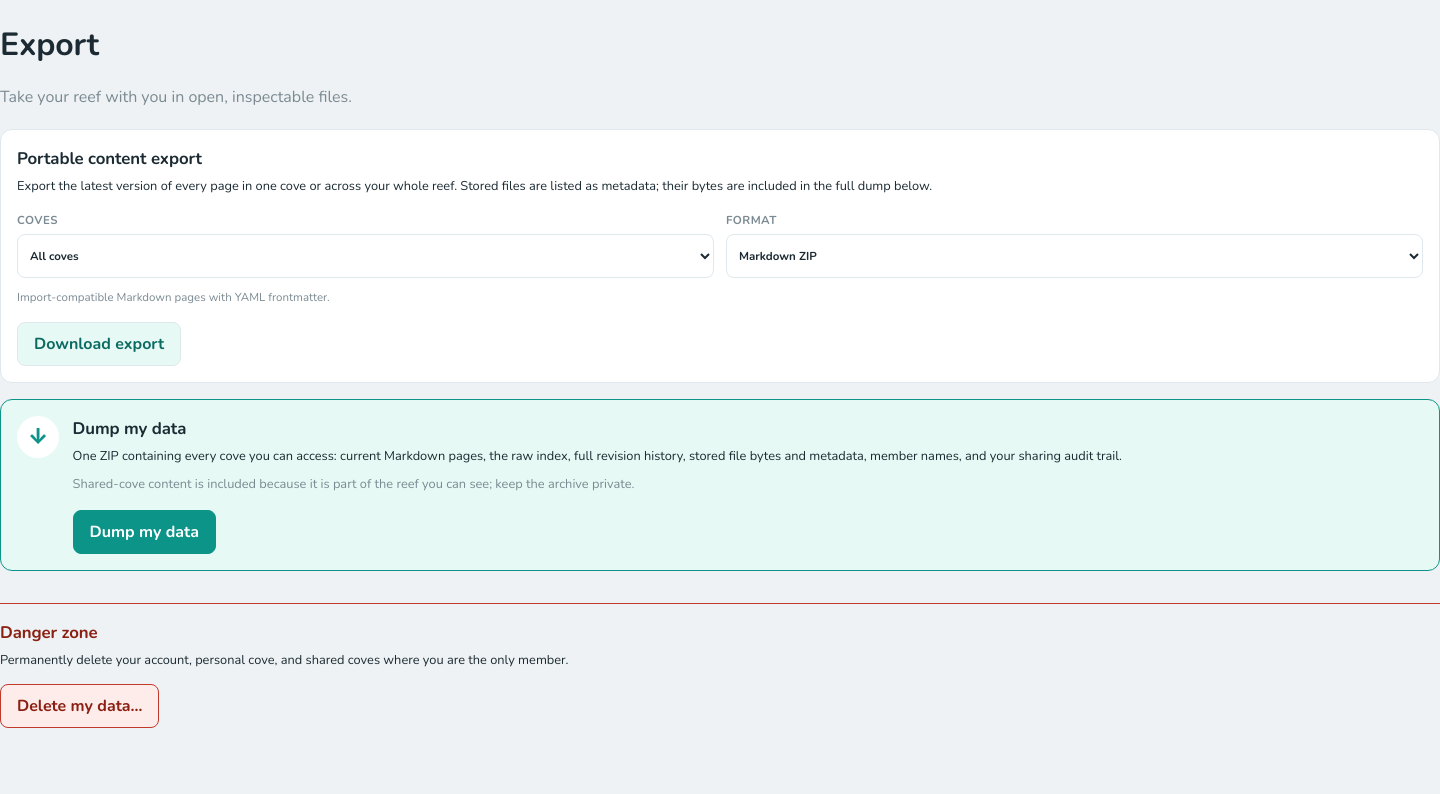
it: a refused deletion is reported and nothing is assumed gone
Click the button "Delete my data…" at (80, 706), box [0, 684, 160, 728]
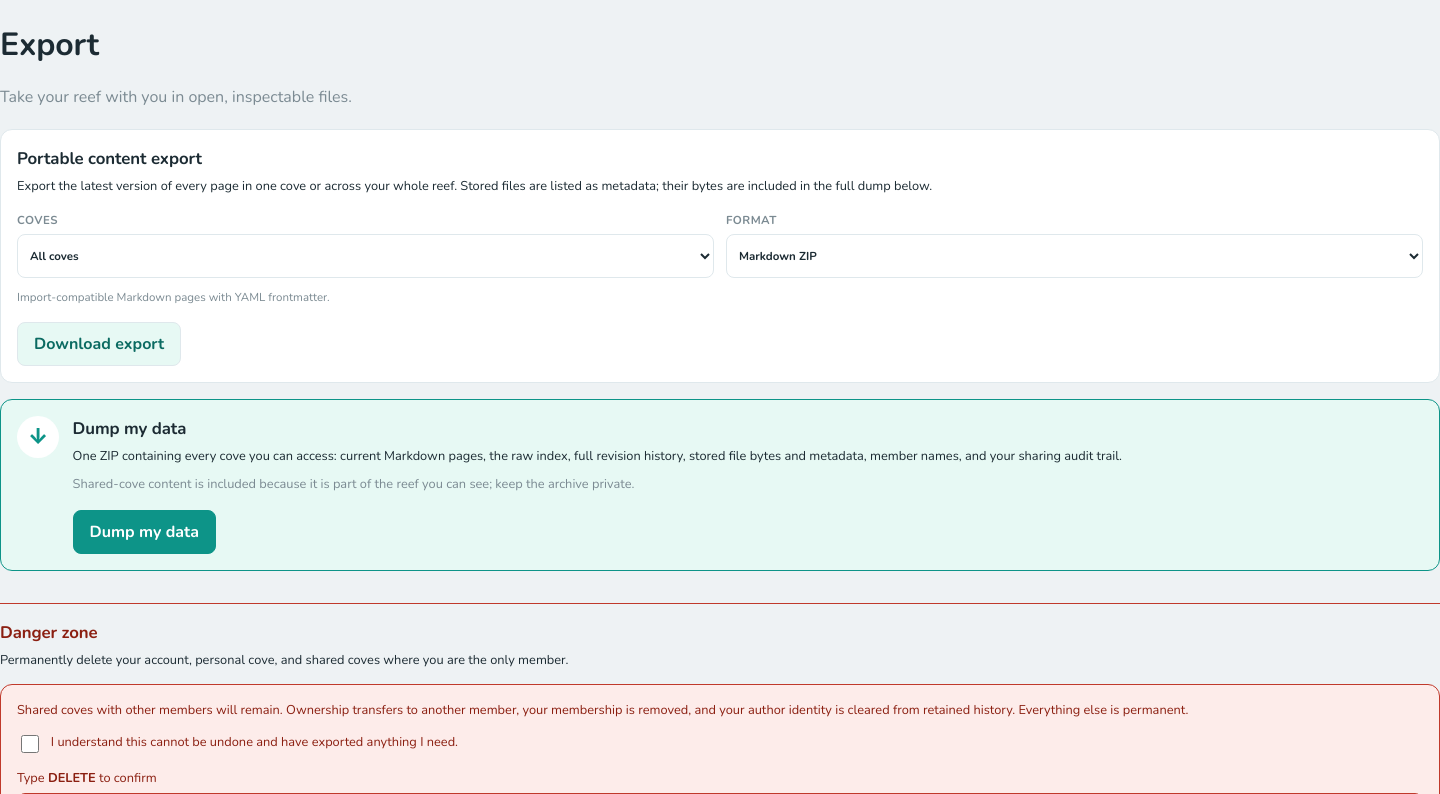
Click the checkbox at (30, 744), box [21, 735, 39, 753]
(page scrolled)
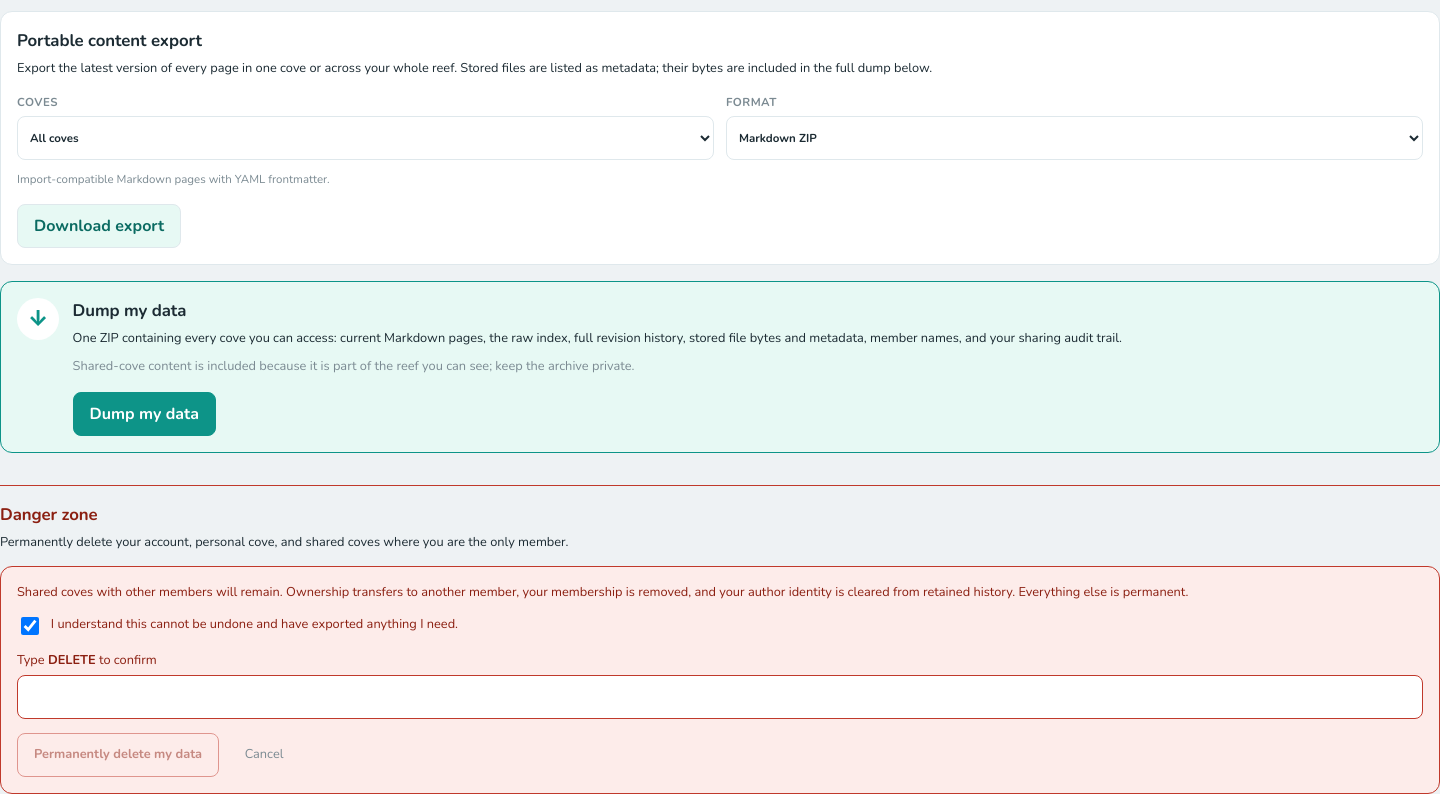
Type "DELETE" into the field labelled "Type DELETE to confirm" at (720, 697), box [17, 675, 1423, 719]
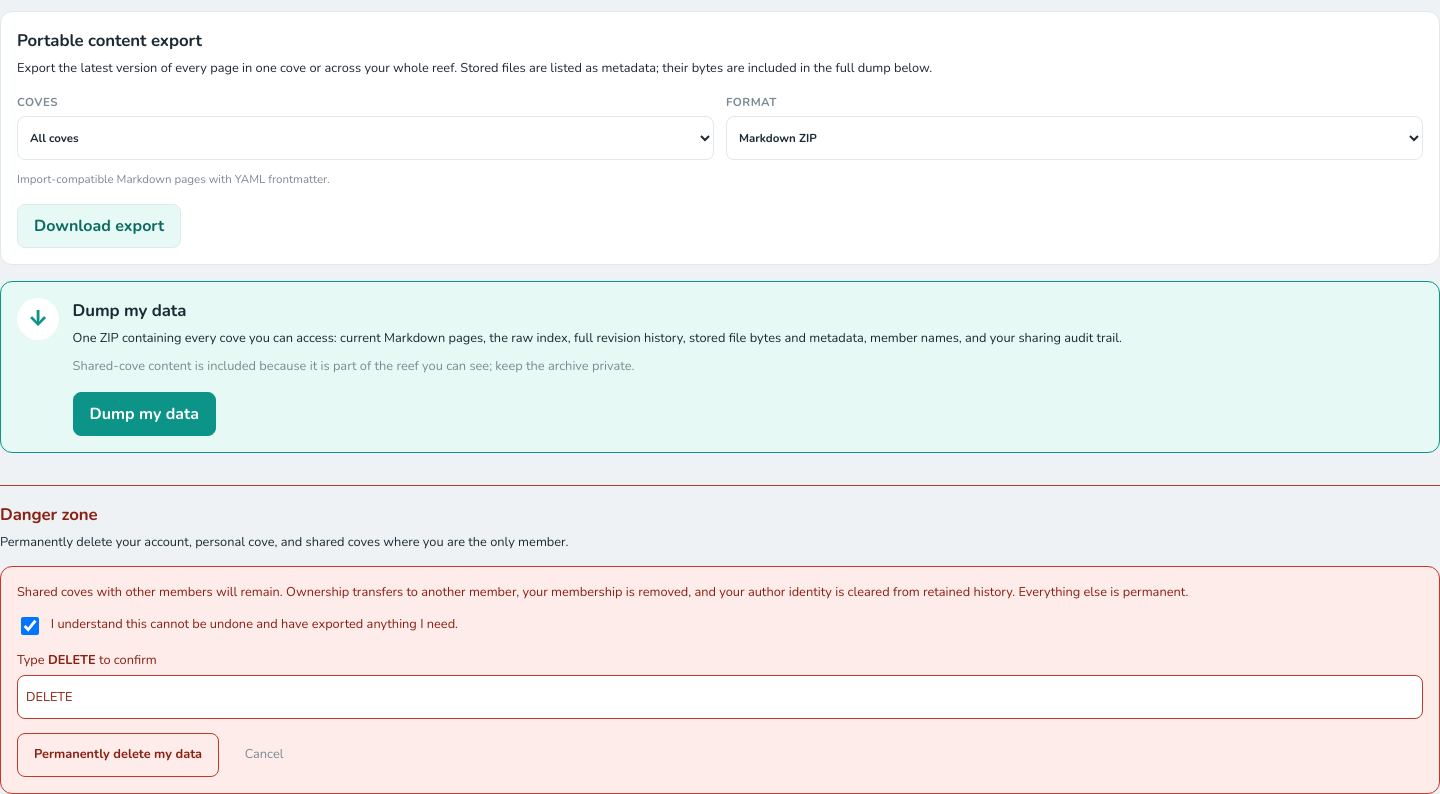
Click the button "Permanently delete my data" at (118, 755), box [17, 733, 219, 777]
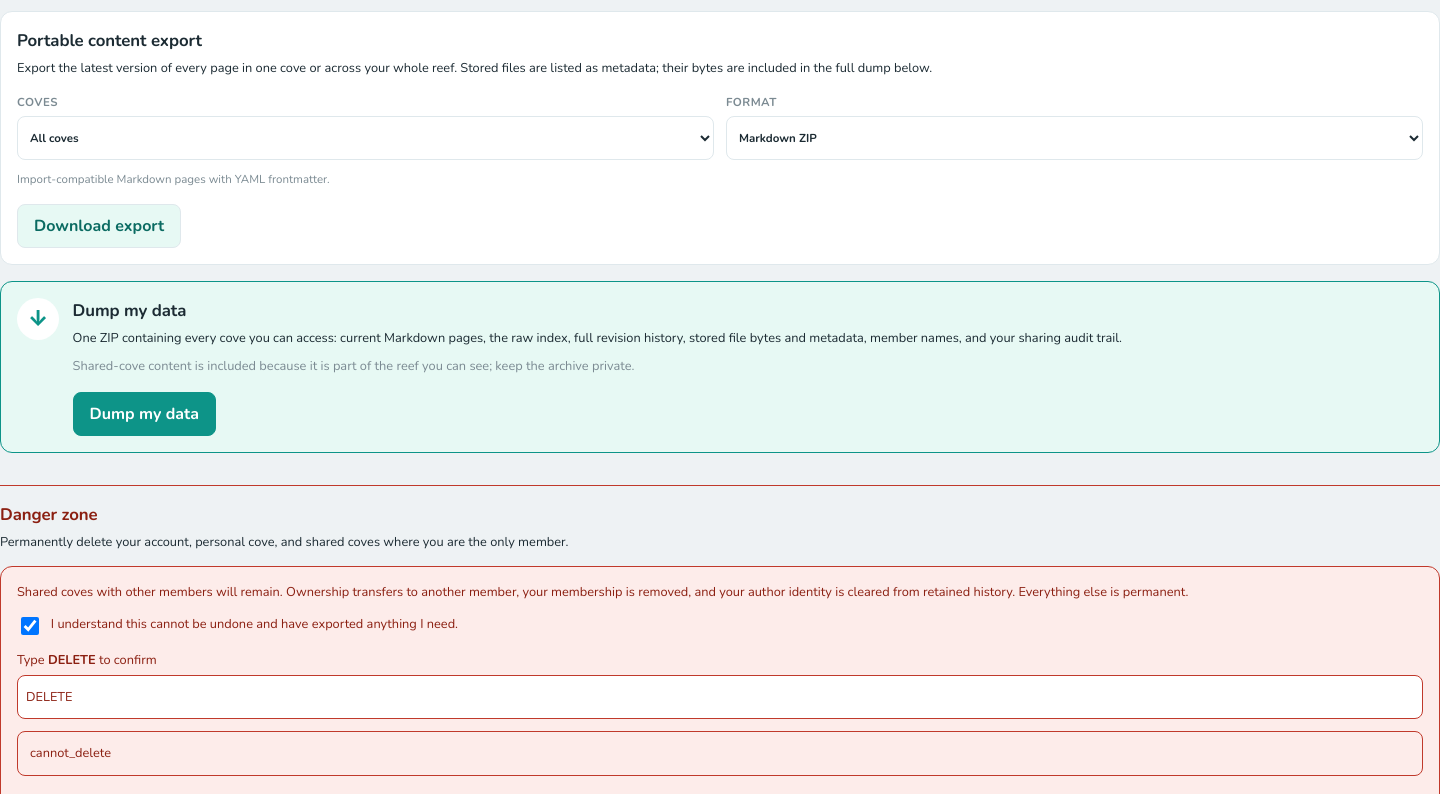
Now the text "cannot_delete" is shown, box [17, 731, 1423, 776]
